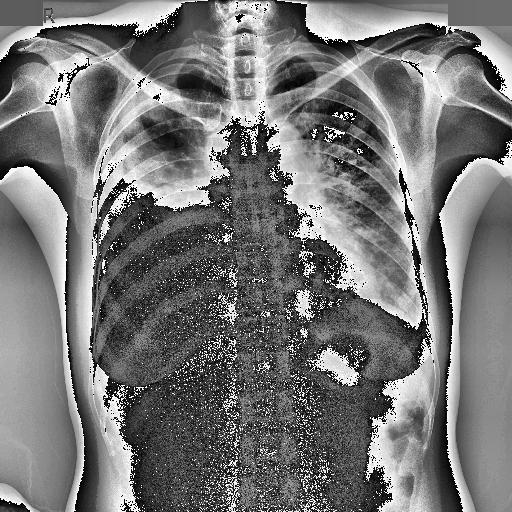0- Aortic enlargement: (254, 118, 302, 175)
10- Pleural effusion: (92, 62, 222, 330), (95, 50, 237, 292), (95, 163, 238, 325), (415, 304, 429, 333)
11- Pleural thickening: (104, 50, 200, 162), (415, 304, 429, 333)
6- Infiltration: (306, 136, 411, 306)
7- Lung Opacity: (120, 69, 229, 203), (124, 72, 224, 200), (318, 179, 416, 306), (116, 78, 218, 200)
